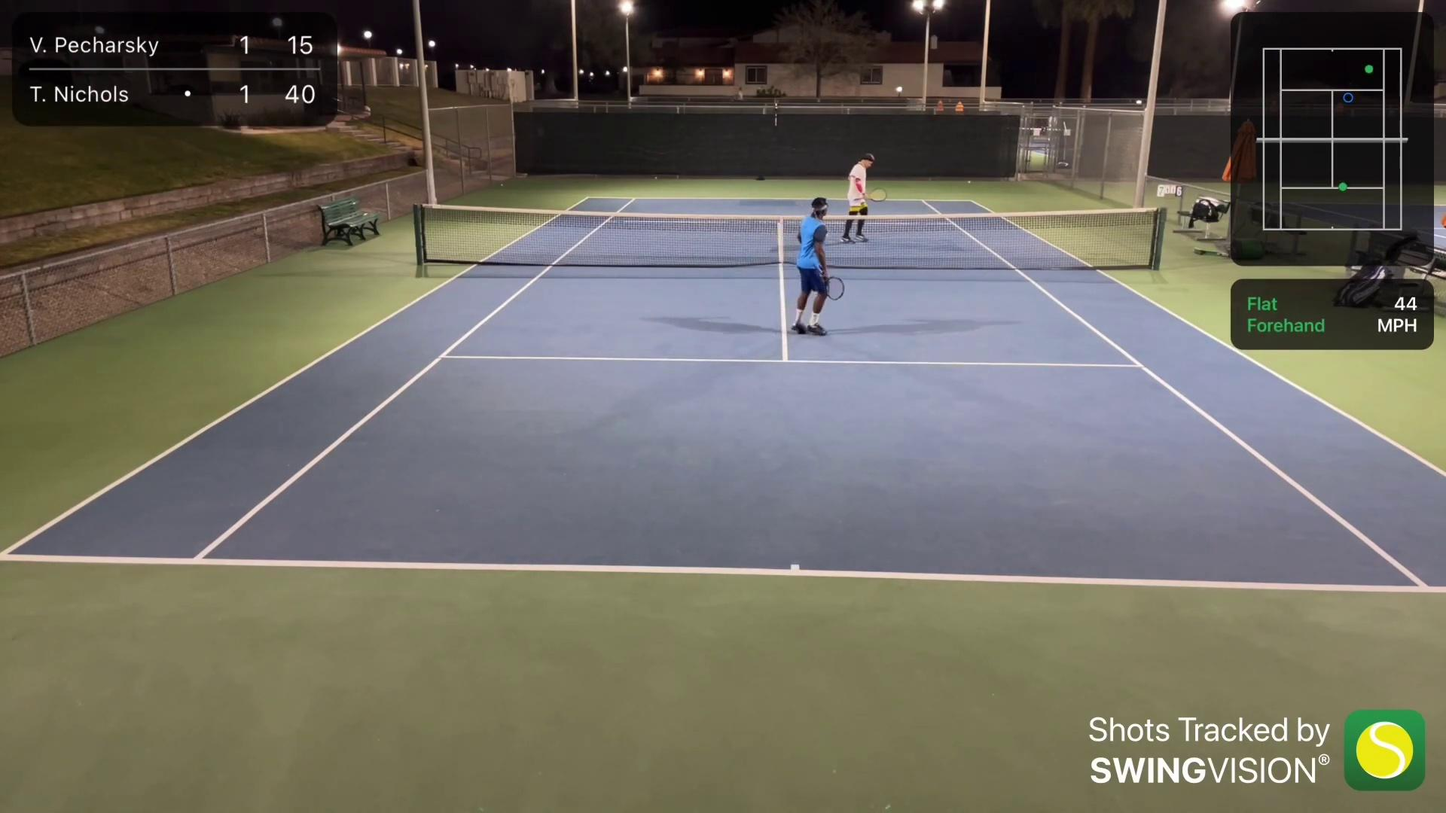ball: (966, 180, 972, 185)
